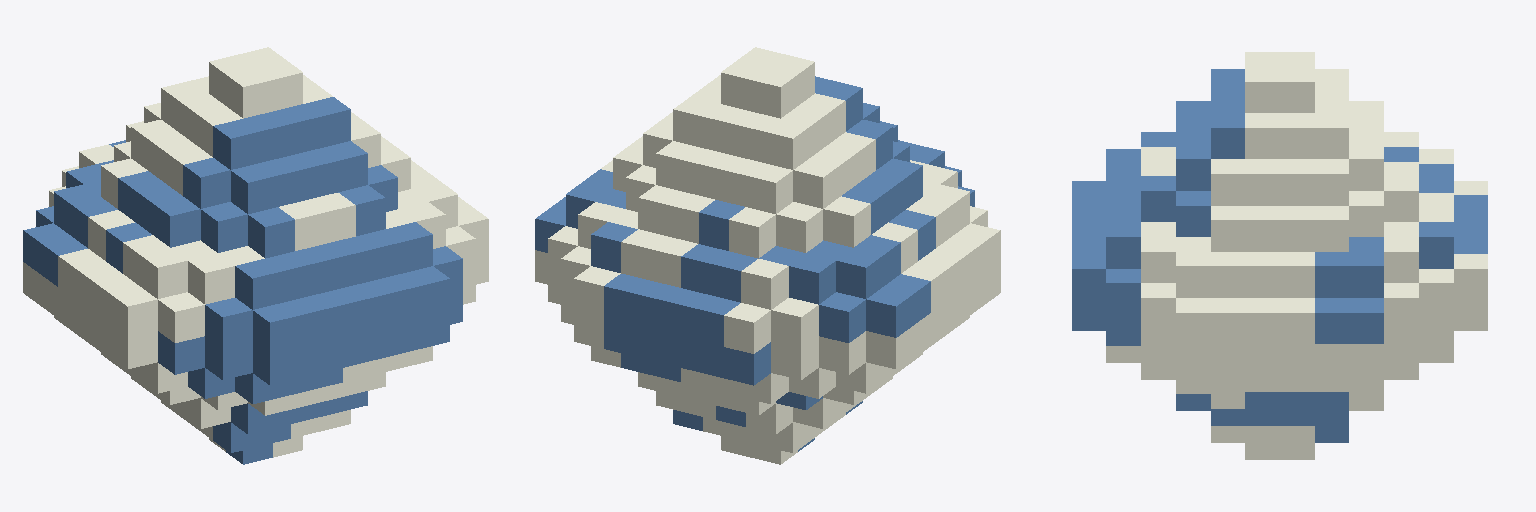
The picture shows the model from 3 angles: view 1: azimuth 30°, elevation 25°; view 2: azimuth 150°, elevation 25°; view 3: azimuth 270°, elevation 25°; orthographic projection.
Size of the model in its own units: 12 by 12 by 12.
1 materials, 1 textured.